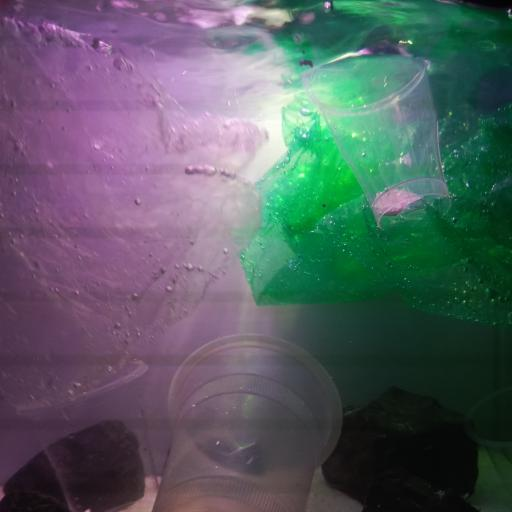plastic_bag: (2, 16, 267, 414), (240, 88, 512, 329)
plastic_cup: (160, 329, 344, 512), (296, 41, 454, 234), (9, 357, 161, 512), (463, 381, 512, 499)
